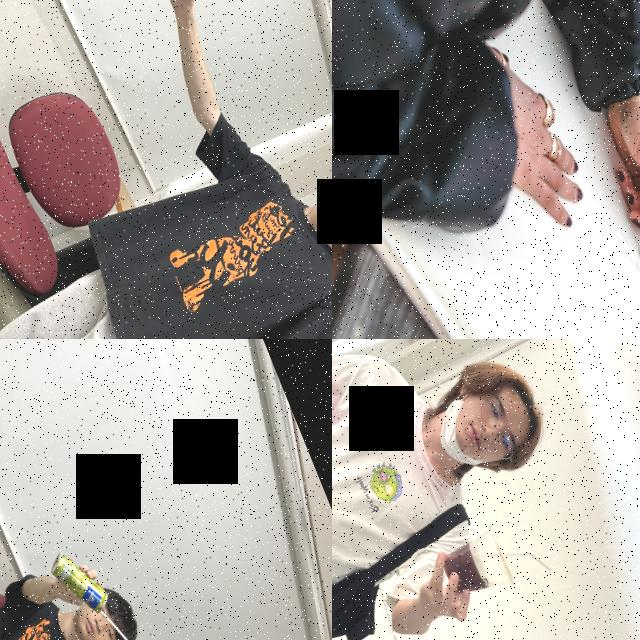can: (43, 540, 113, 624)
cup: (432, 522, 520, 608)
